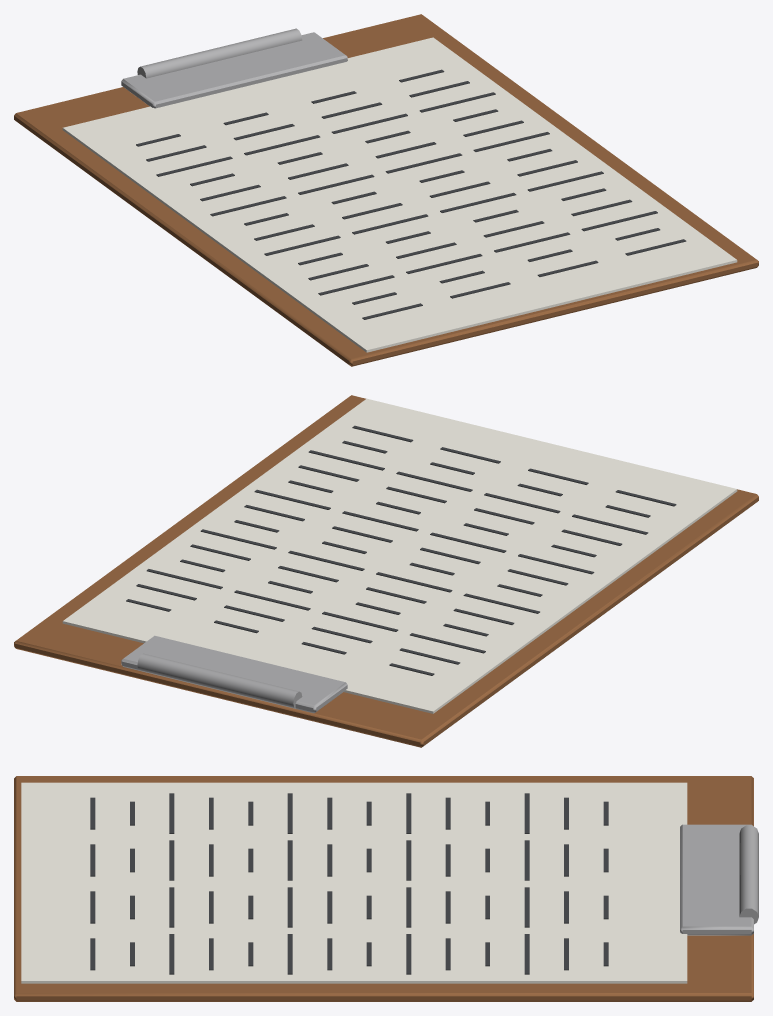
Rendered from charging_manifest.glb.
3 renders of one model, top to bottom at view 1: azimuth 30°, elevation 25°; view 2: azimuth 150°, elevation 25°; view 3: azimuth 270°, elevation 25°, orthographic. The views are drawn at different scales.
Visible parts, largest first — view 1: body; view 2: body; view 3: body.
Boxes of the visible parts, x1=… form: body: x1=14, y1=14, x2=758, y2=366; body: x1=14, y1=395, x2=758, y2=747; body: x1=14, y1=776, x2=758, y2=1001.
Bounding box in the file's own units: 0.21 × 0.0118 × 0.302.
